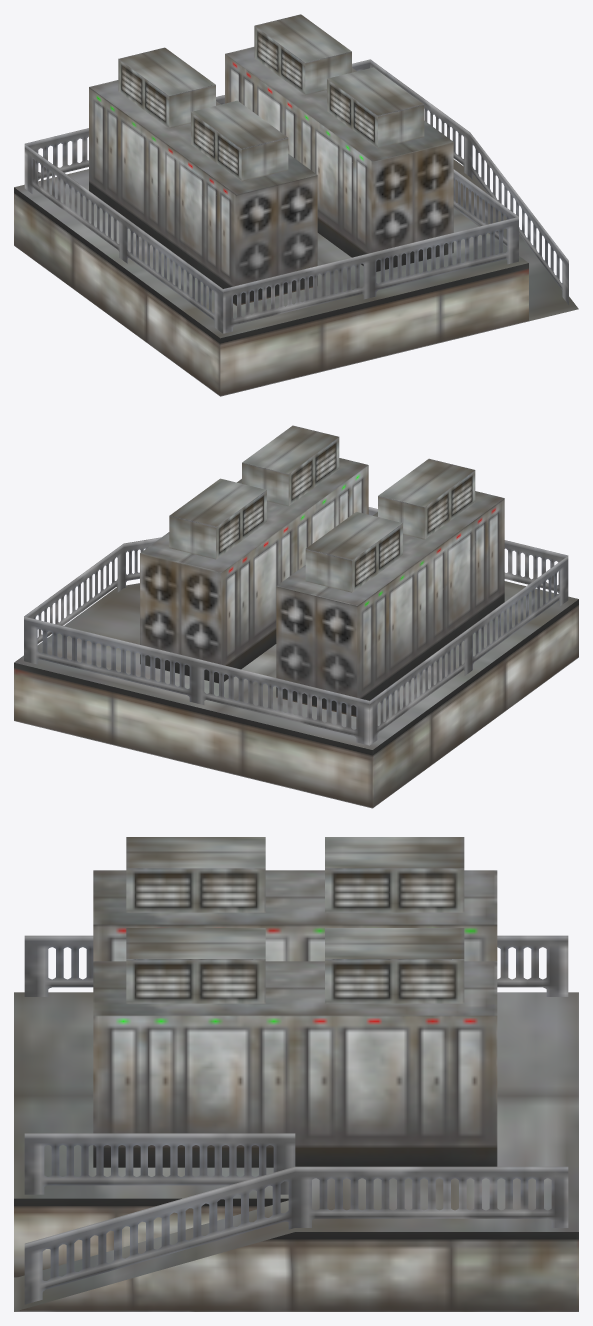
File: transformerstation.glb
3 views of the same model, one above another, from view 1: azimuth 30°, elevation 25°; view 2: azimuth 150°, elevation 25°; view 3: azimuth 270°, elevation 25° (orthographic). The views are drawn at different scales.
Visible parts, largest first — view 1: TransformerStation; view 2: TransformerStation; view 3: TransformerStation.
Part boxes in pixels (x1=…): TransformerStation: x1=14, y1=14, x2=578, y2=396; TransformerStation: x1=14, y1=425, x2=578, y2=808; TransformerStation: x1=14, y1=837, x2=578, y2=1311.
Bounding box in the file's own units: 16.62 × 8.96 × 16.56.
1 material, 1 textured.
